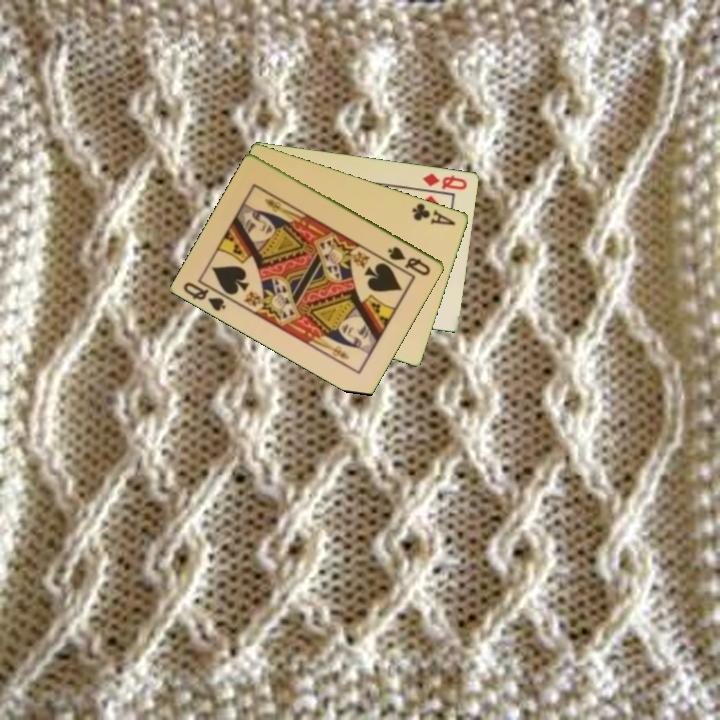Ac: (409, 199, 459, 228)
Qd: (419, 169, 470, 193)
Qs: (384, 243, 434, 279), (180, 278, 229, 314)
